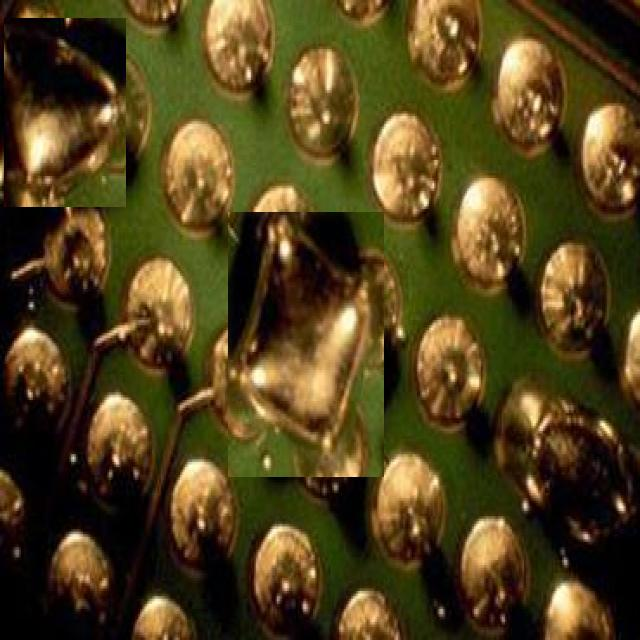Short_circuit: (227, 212, 384, 478), (4, 18, 126, 207)
